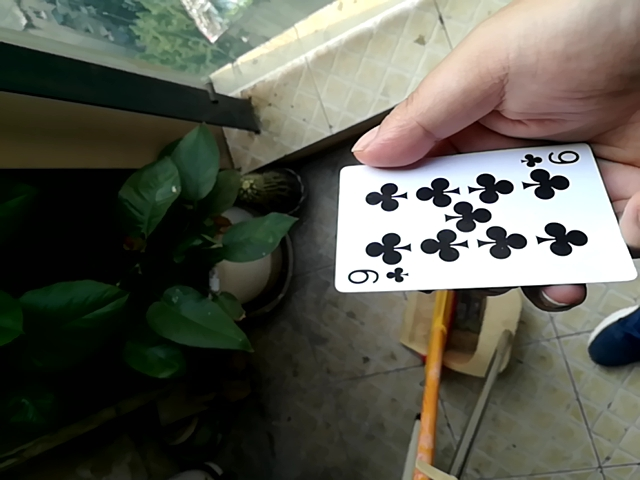mh 9: (325, 144, 630, 290)
